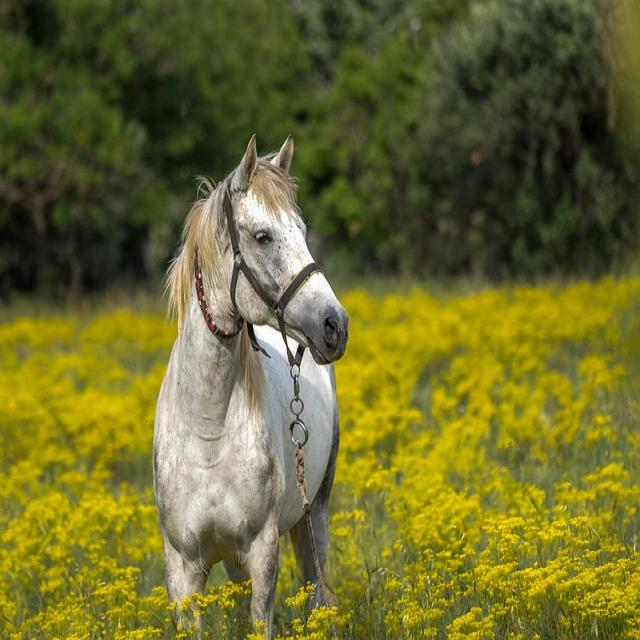Herbivorous: (154, 137, 349, 626)
